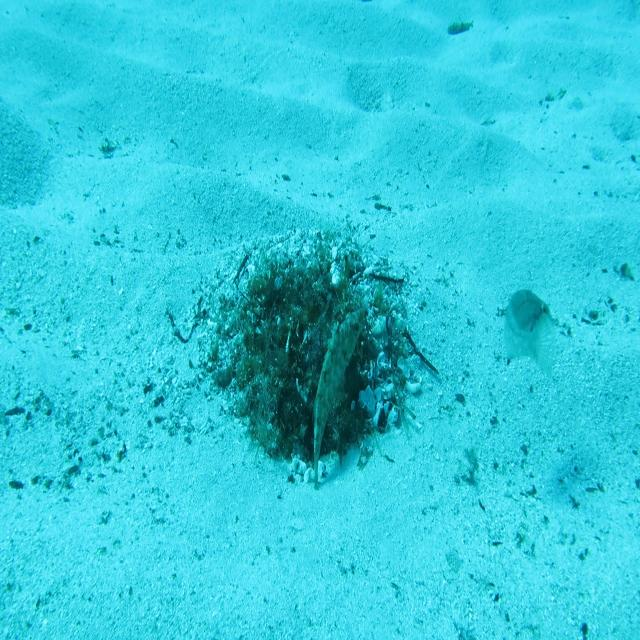LF: (311, 300, 366, 496)
core_nest: (278, 283, 329, 323)
female: (500, 287, 560, 382)
nest: (207, 230, 441, 502)
vegetation: (448, 18, 476, 40)
